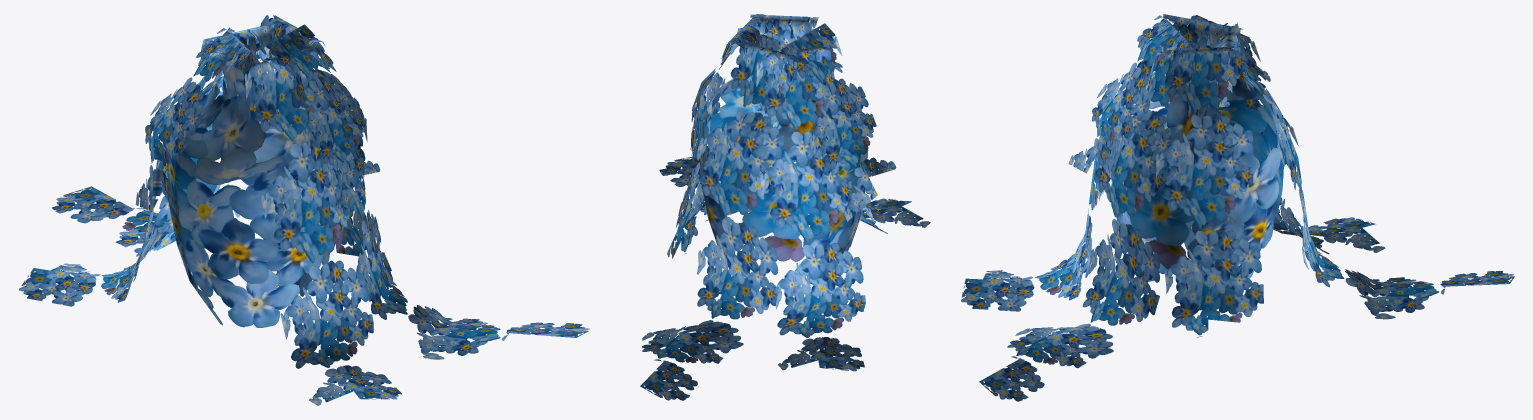
File: Drooping_Ivy_geo.fbx
The picture shows the model from 3 angles, left to right: view 1: azimuth 30°, elevation 25°; view 2: azimuth 150°, elevation 25°; view 3: azimuth 270°, elevation 25°; orthographic projection. The views are drawn at different scales.
Parts seen in each view (by area): view 1: ivy:ivy; view 2: ivy:ivy; view 3: ivy:ivy.
Boxes of the visible parts, box(x1,y1,x2,y2) form: ivy:ivy: box(19, 15, 589, 405); ivy:ivy: box(640, 14, 930, 400); ivy:ivy: box(961, 14, 1514, 401).
Size of the model in its own units: 847 by 566 by 1050.
